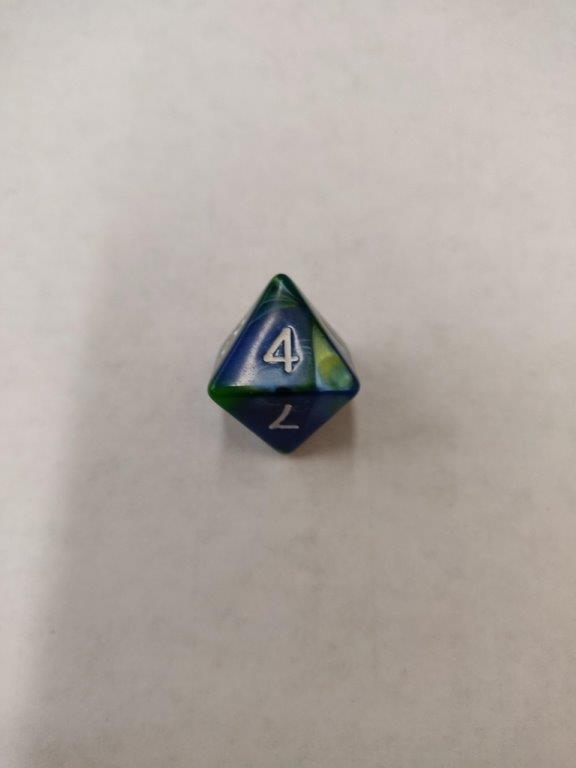d8-4: (208, 271, 363, 457)
